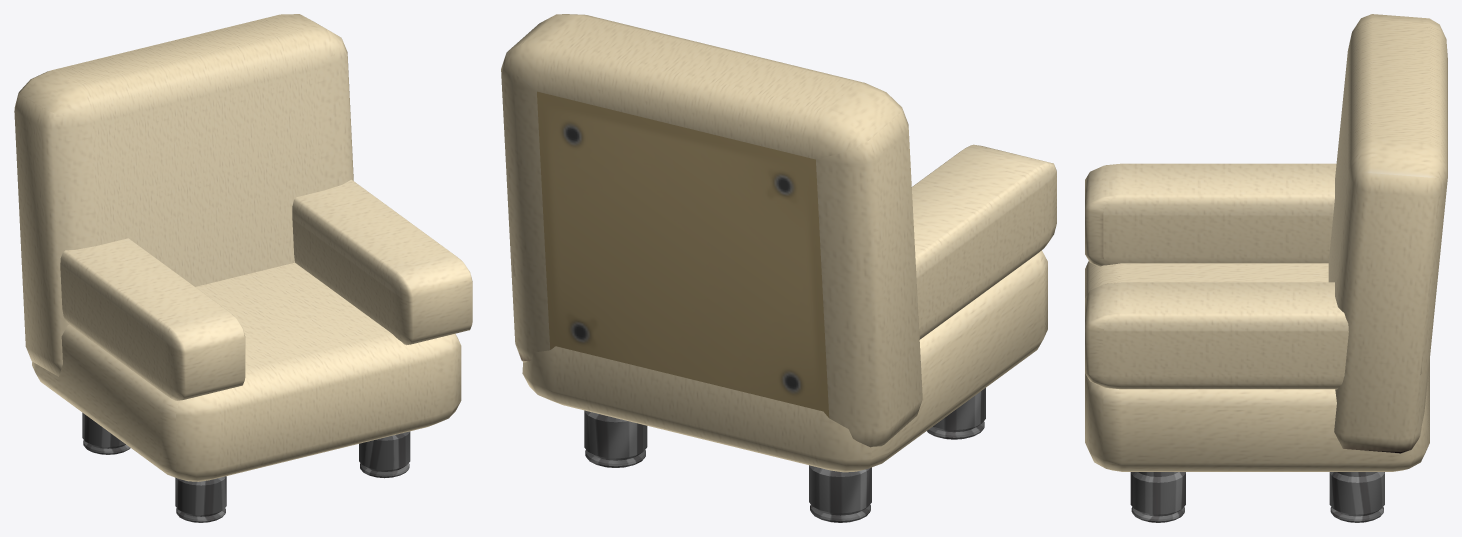
File: Sofa1.FBX
3 views of the same model, side by side, from view 1: azimuth 30°, elevation 25°; view 2: azimuth 150°, elevation 25°; view 3: azimuth 270°, elevation 25° (orthographic). The views are drawn at different scales.
Parts seen in each view (by area): view 1: ChamferBox005; view 2: ChamferBox005; view 3: ChamferBox005.
Part boxes in pixels (x1,y1,x2,y2): ChamferBox005: [14, 14, 472, 522]; ChamferBox005: [501, 14, 1056, 522]; ChamferBox005: [1085, 14, 1447, 522].
Size of the model in its own units: 15.68 by 17.62 by 15.02.
Materials: 1 (1 with a texture image).
